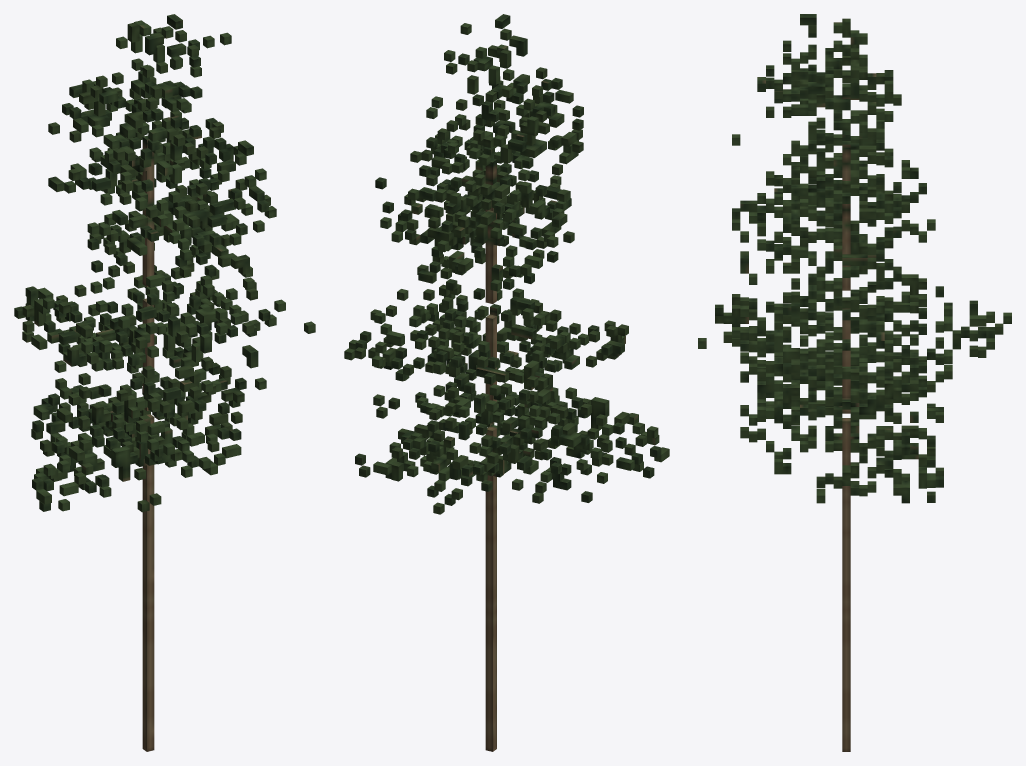
The model's file is Tree.fbx.
The picture shows the model from 3 angles, left to right: view 1: azimuth 30°, elevation 25°; view 2: azimuth 150°, elevation 25°; view 3: azimuth 270°, elevation 25°; orthographic projection. The views are drawn at different scales.
Parts seen in each view (by area): view 1: Untitled; view 2: Untitled; view 3: Untitled.
Part boxes in pixels (x1,y1,x2,y2): Untitled: (14,14,315,751); Untitled: (344,14,669,751); Untitled: (698,14,1011,751).
Bounding box in the file's own units: 350 × 960 × 370.
Materials: 1 (1 with a texture image).
